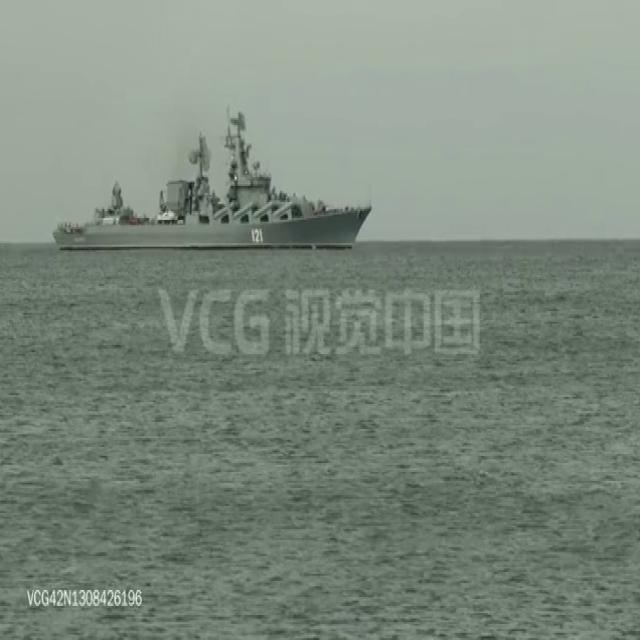navalvessels: (53, 101, 374, 255)
